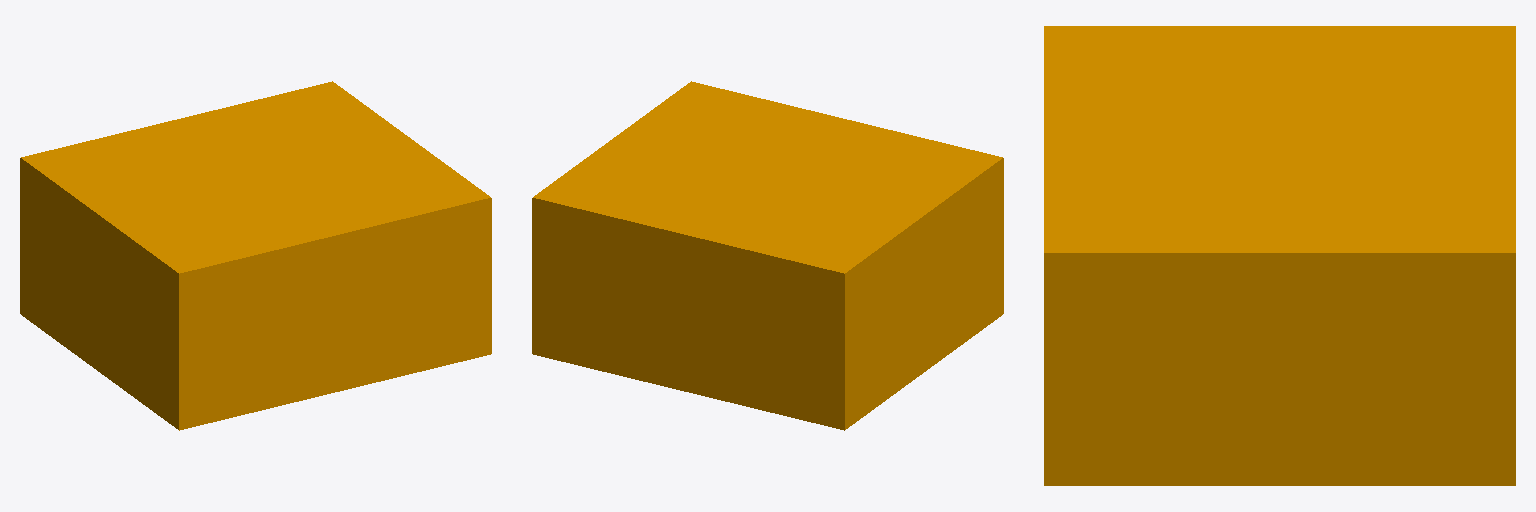
The robot description file, URDF, robot "2x2":
<?xml version='1.0' encoding='UTF-8'?>
<robot name="2x2">
  <link name="base_link">
    <inertial>
      <origin xyz="0.0 0.0 0.0" rpy="0.0 0.0 0.0"/>
      <mass value="0.01"/>
      <inertia ixx="0.1" ixy="0.0" ixz="0.0" iyy="0.1" iyz="0.0" izz="0.1"/>
    </inertial>
    <visual>
      <geometry>
        <box size="0.025 0.022 0.012"/>
      </geometry>
      <material name=""/>
      <origin xyz="0.0 0.0 0.0" rpy="0.0 0.0 0.0"/>
    </visual>
    <collision>
      <geometry>
        <box size="0.025 0.022 0.012"/>
      </geometry>
      <origin xyz="0.0 0.0 0.0" rpy="0.0 0.0 0.0"/>
    </collision>
  </link>
  <material name="">
    <color rgba="0.23065247 0.3272307  0.25533742 1.        "/>
  </material>
  <contact>
    <lateral_friction value="1.0"/>
    <rolling_friction value="0.0"/>
    <contact_cfm value="0.0"/>
    <contact_erp value="1.0"/>
  </contact>
</robot>

--- Facts derived from the render (not from the file) ---
Views: 3 orthographic renders of the robot side by side, from view 1: azimuth 30°, elevation 25°; view 2: azimuth 150°, elevation 25°; view 3: azimuth 270°, elevation 25°.
Model 2x2 with 1 links and 0 joints (none), rooted at base_link, posed all joints at 0.
Links seen in each view (by area): view 1: base_link; view 2: base_link; view 3: base_link.
Link boxes in pixels (box(x1,y1,x2,y2)): base_link: box(20, 81, 491, 430); base_link: box(532, 81, 1003, 430); base_link: box(1044, 26, 1515, 485).
Bounding box of the posed robot: 0.025 × 0.022 × 0.012 m (x, y, z).
Geometry: primitives only (box / cylinder / sphere), no mesh files.